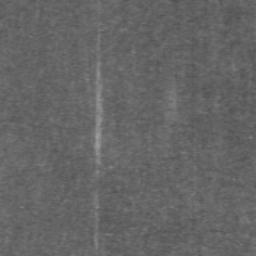Bright scratch: (94, 66, 103, 249)
